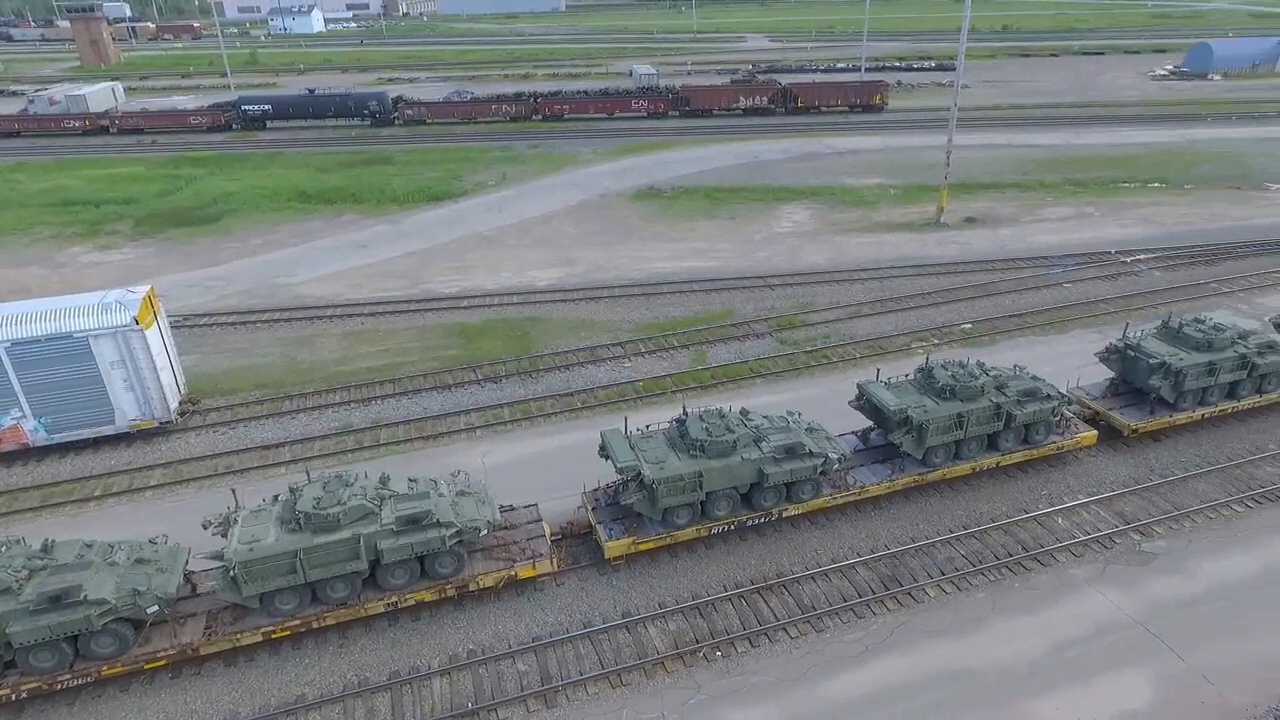tank: (210, 462, 501, 621), (588, 409, 854, 529), (1, 516, 194, 674), (847, 360, 1077, 463), (1098, 310, 1280, 410)
